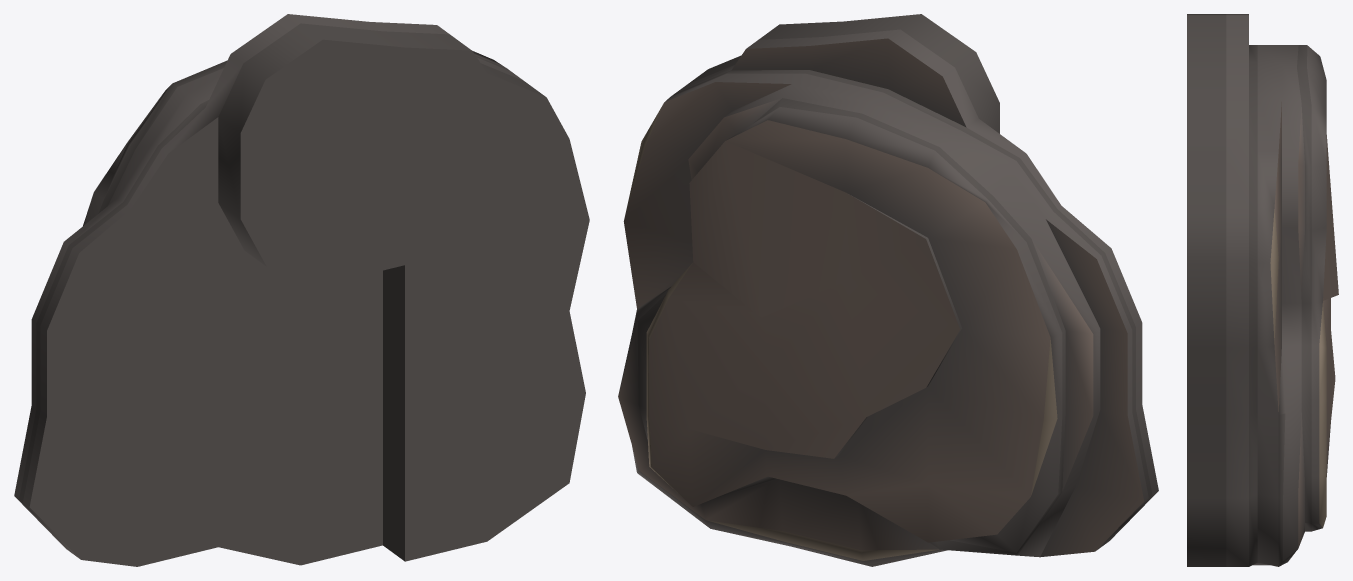
Rendered from RockFlatLayered.001.glb.
The picture shows the model from 3 angles, left to right: view 1: azimuth 30°, elevation 25°; view 2: azimuth 150°, elevation 25°; view 3: azimuth 270°, elevation 25°; orthographic projection. The views are drawn at different scales.
Parts seen in each view (by area): view 1: RockFlatLayered.001; view 2: RockFlatLayered.001; view 3: RockFlatLayered.001.
Boxes of the visible parts, x1,y1,x2,y2 form: RockFlatLayered.001: [14, 14, 589, 566]; RockFlatLayered.001: [618, 14, 1158, 566]; RockFlatLayered.001: [1187, 14, 1338, 566].
Bounding box in the file's own units: 826 × 796 × 229.
